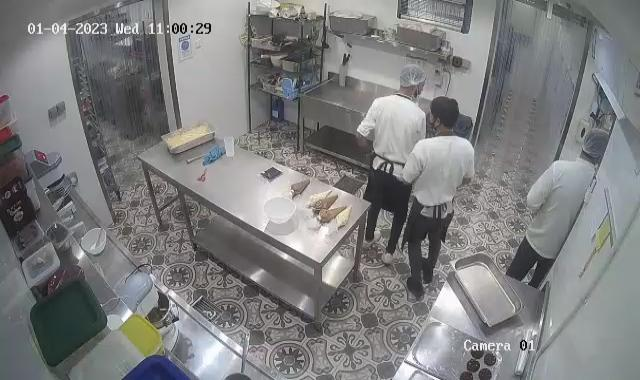hairnet: (582, 126, 608, 160), (397, 62, 426, 90)
no_hairnet: (429, 97, 459, 131)
